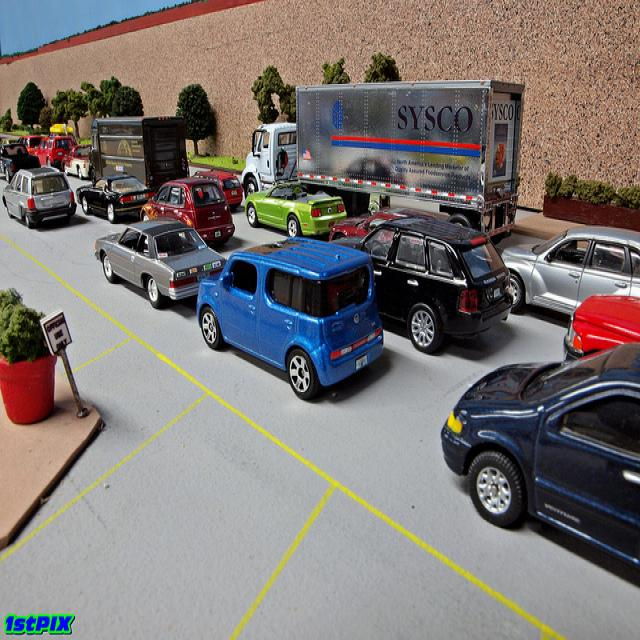Vehicle: (438, 341, 640, 588), (244, 85, 527, 227), (196, 236, 384, 403), (332, 221, 514, 356), (499, 228, 640, 319), (93, 218, 229, 310), (94, 112, 193, 194), (244, 180, 348, 238), (140, 183, 236, 245), (4, 163, 84, 232), (561, 293, 640, 355), (328, 206, 440, 241), (76, 174, 156, 222), (191, 170, 243, 212), (0, 143, 41, 184), (29, 136, 74, 169), (34, 137, 74, 172)
